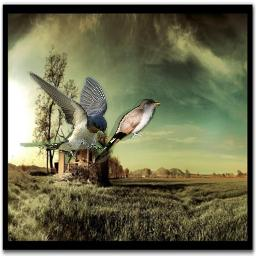Cuckoo: (92, 99, 162, 163)
Swallow: (20, 70, 108, 163)
